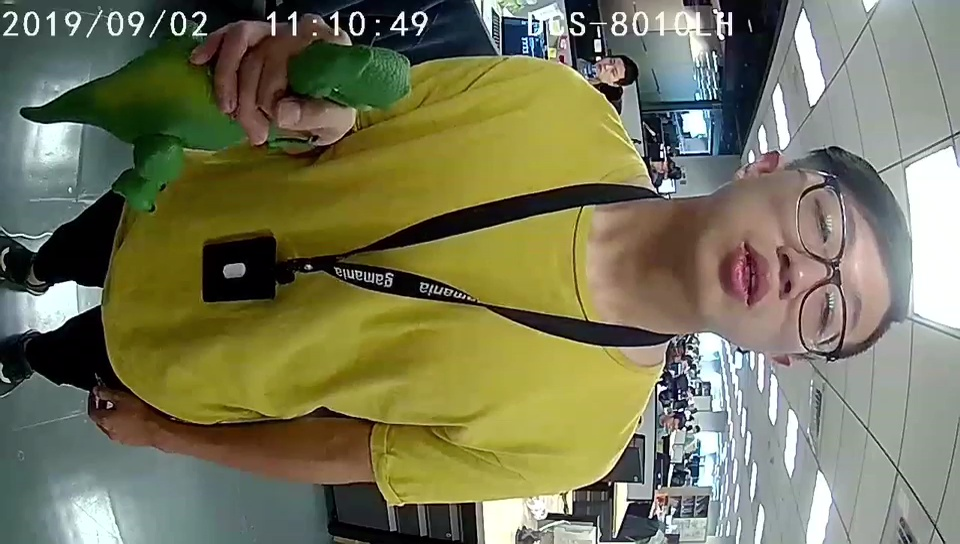rex: (112, 38, 415, 212)
